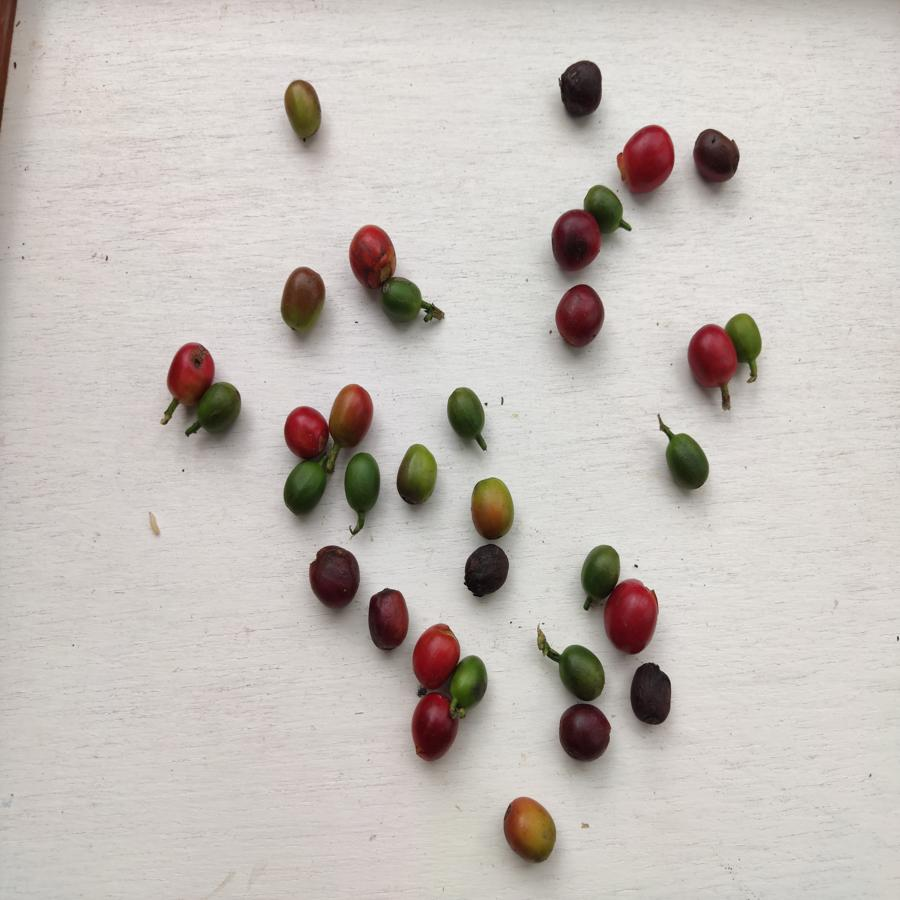Inmaduro: (665, 433, 713, 495), (556, 643, 605, 703), (392, 445, 439, 506), (198, 382, 245, 435), (342, 454, 383, 514), (285, 461, 328, 517), (447, 385, 489, 442), (381, 277, 427, 327), (583, 183, 627, 234), (727, 309, 766, 364), (455, 655, 490, 716), (582, 544, 619, 601)
Maduro: (607, 576, 658, 655), (619, 125, 675, 195), (346, 221, 398, 287), (164, 337, 215, 404), (686, 321, 736, 386), (412, 691, 456, 763), (411, 620, 455, 690), (283, 404, 329, 460)
Pinton: (498, 789, 556, 864), (277, 264, 328, 331), (468, 475, 517, 539), (329, 382, 372, 449), (281, 79, 325, 141)
Sobremaduro: (306, 542, 362, 612), (551, 284, 608, 348), (554, 705, 609, 765), (457, 543, 513, 600), (629, 660, 675, 728), (551, 209, 600, 270), (557, 60, 606, 120), (692, 128, 743, 185), (368, 587, 407, 656)
